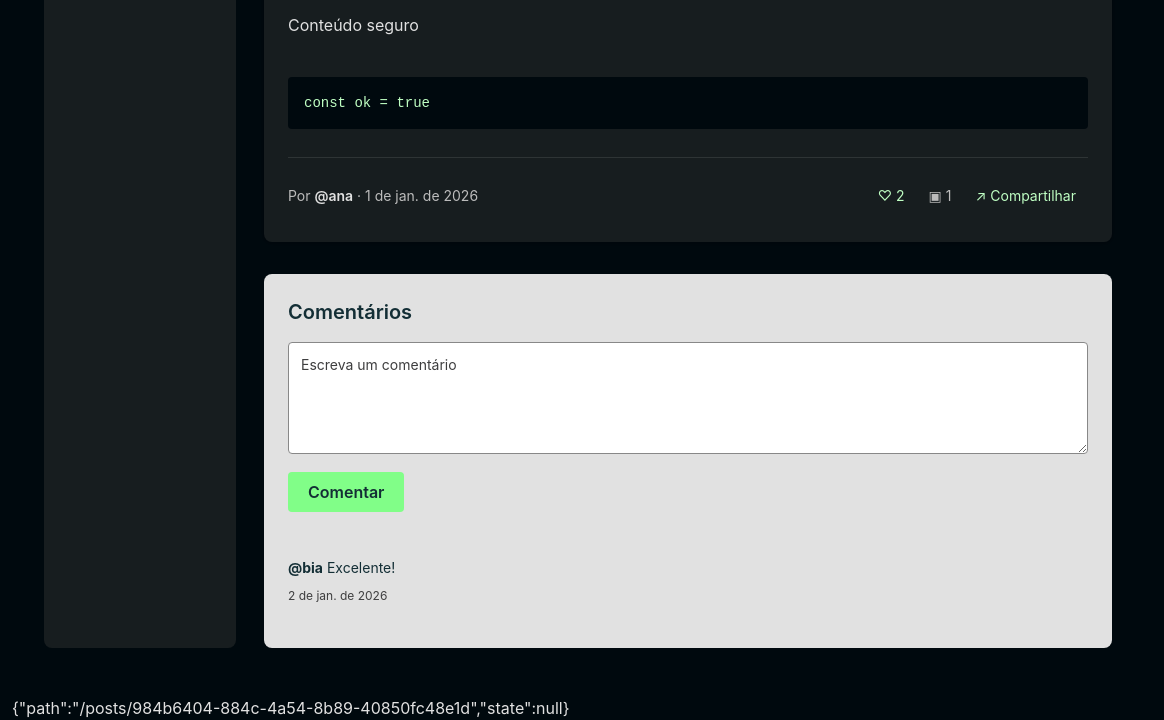
Test: PostDetailsPage › preserves a comment after a submission error
(page scrolled)
Type "Manter este texto" into the text box labelled "Escreva um comentário" at (688, 398), box [288,342,1088,454]
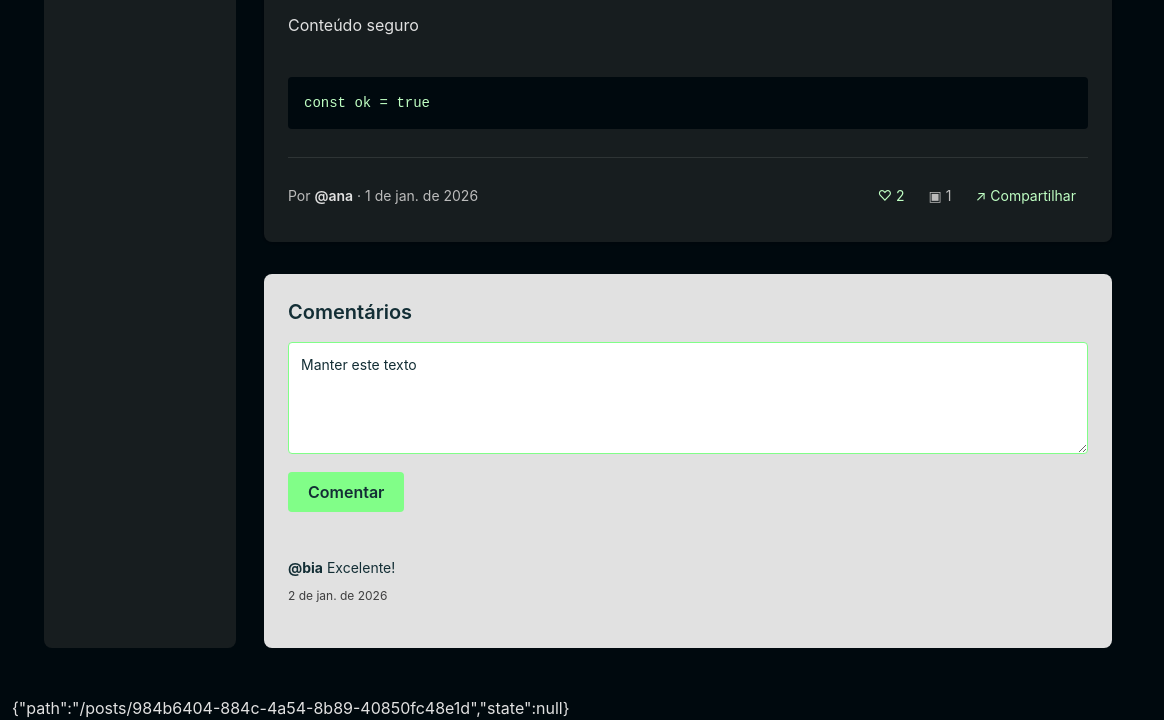
Click the button "Comentar" at (346, 492), box [288,472,404,512]
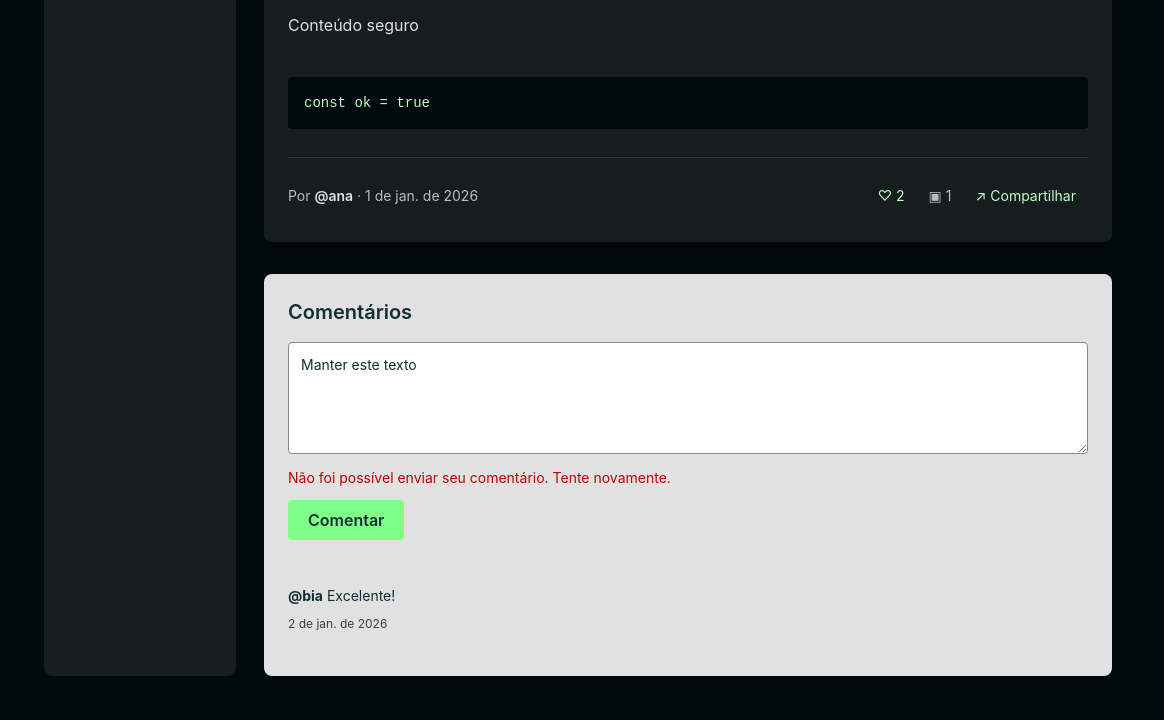
Expected: the message shows "Não foi possível enviar seu comentário", [288,469,671,486]
